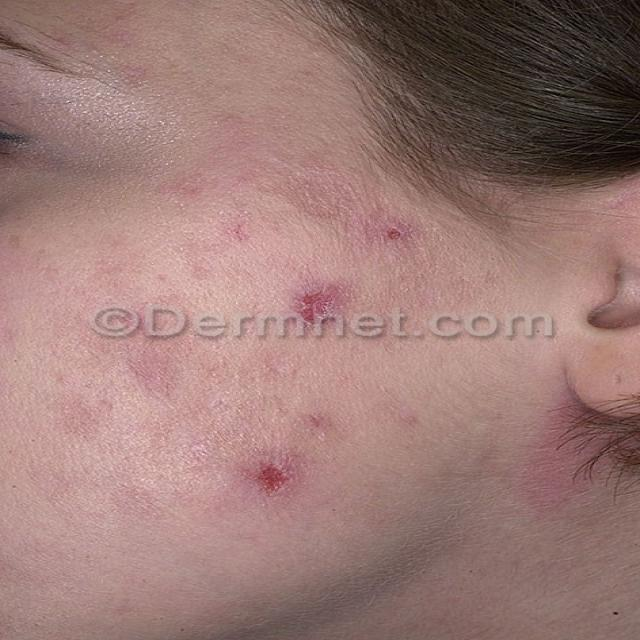Acne: (240, 454, 309, 500), (290, 277, 348, 325), (374, 216, 419, 248)
